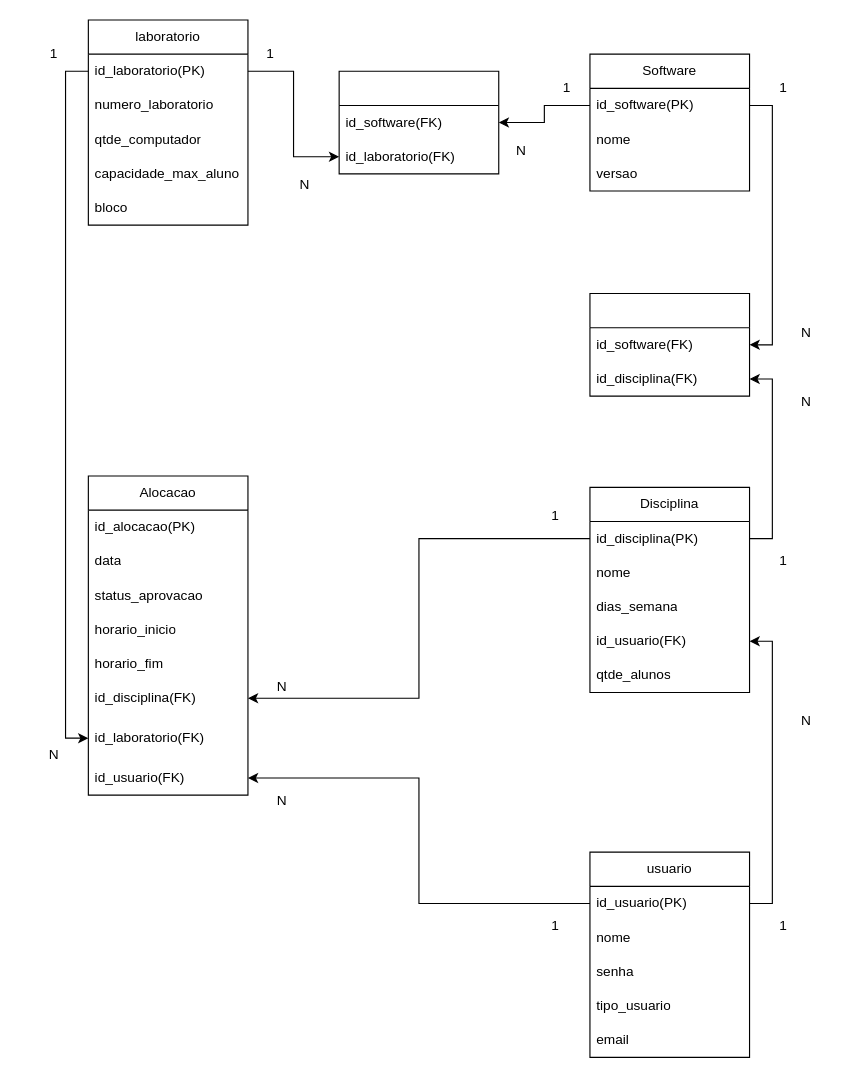
Image size: 860x1077. Some labels were removed from this diagram. The shapes that lost their labels are listed below. From the top down, each one's box as (x1, y1, x2, y2) in pixels, then its label:
(338, 70, 499, 174): Laboratorio_Software
(589, 292, 750, 396): Software_Disciplinas
